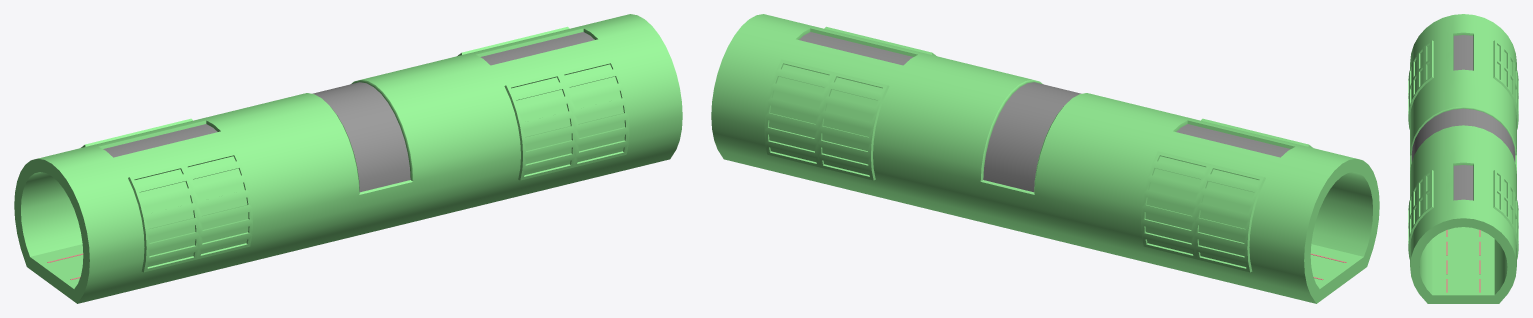
The model's file is RocketStation_Corridor_01.gltf.
3 renders of one model, left to right at view 1: azimuth 30°, elevation 25°; view 2: azimuth 150°, elevation 25°; view 3: azimuth 270°, elevation 25°, orthographic. The views are drawn at different scales.
Visible parts, largest first — view 1: RocketStation_Corridor_01; view 2: RocketStation_Corridor_01; view 3: RocketStation_Corridor_01.
Boxes of the visible parts, bbox=[...] form: RocketStation_Corridor_01: bbox=[14, 14, 682, 303]; RocketStation_Corridor_01: bbox=[711, 14, 1379, 303]; RocketStation_Corridor_01: bbox=[1408, 14, 1518, 303].
Bounding box in the file's own units: 5 × 0.9795 × 1.15.
